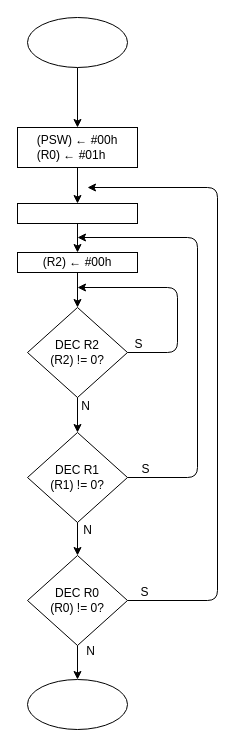
Some shapes in this 243 by 747 pixel diagram are drawn without their labels. Here are the shapes that lost their labels. From the top down, the box of each, then its label:
(26, 16, 128, 68): WAIT
(16, 202, 138, 224): (R1) ← #00h
(26, 678, 128, 730): RET
